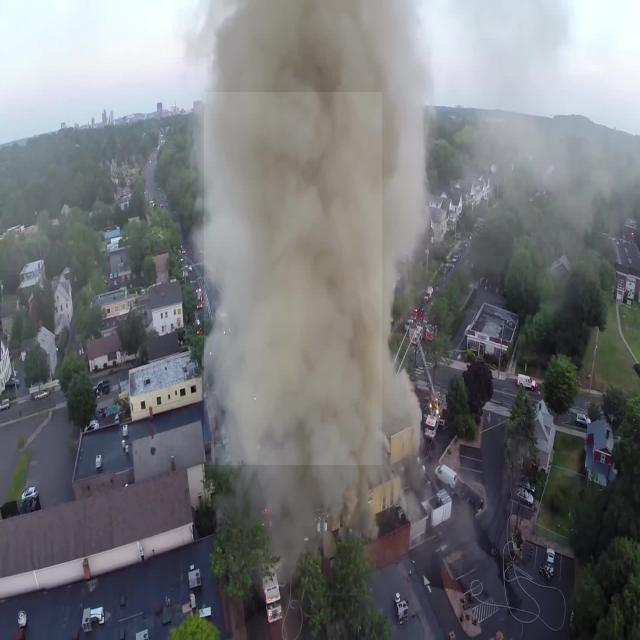Smoke: (204, 92, 382, 465)
